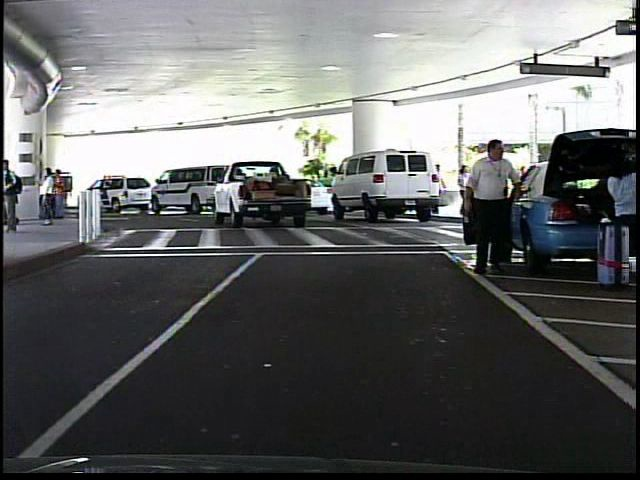person: (454, 135, 515, 279), (595, 147, 640, 280), (455, 160, 476, 218)
